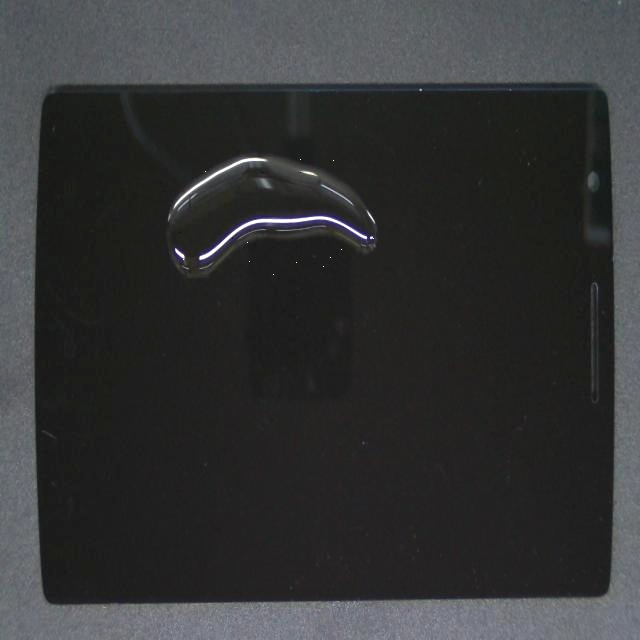oil: (205, 61, 404, 254)
